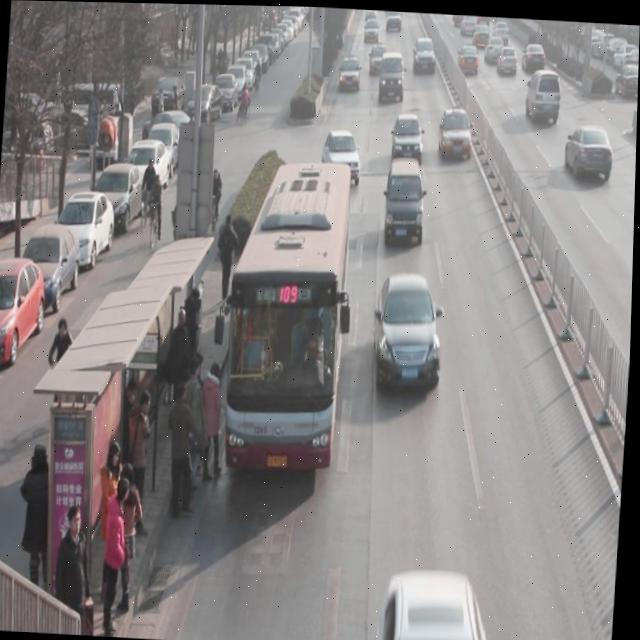car: (373, 270, 447, 387), (564, 120, 615, 179), (321, 127, 362, 182), (438, 101, 474, 157), (391, 110, 425, 158), (413, 34, 437, 72), (520, 39, 547, 71), (340, 52, 361, 90), (457, 39, 480, 72), (496, 42, 519, 73), (368, 38, 387, 74), (484, 31, 503, 62)
truck: (384, 155, 428, 241), (525, 63, 563, 122), (379, 48, 405, 99)
van: (221, 158, 353, 468)
